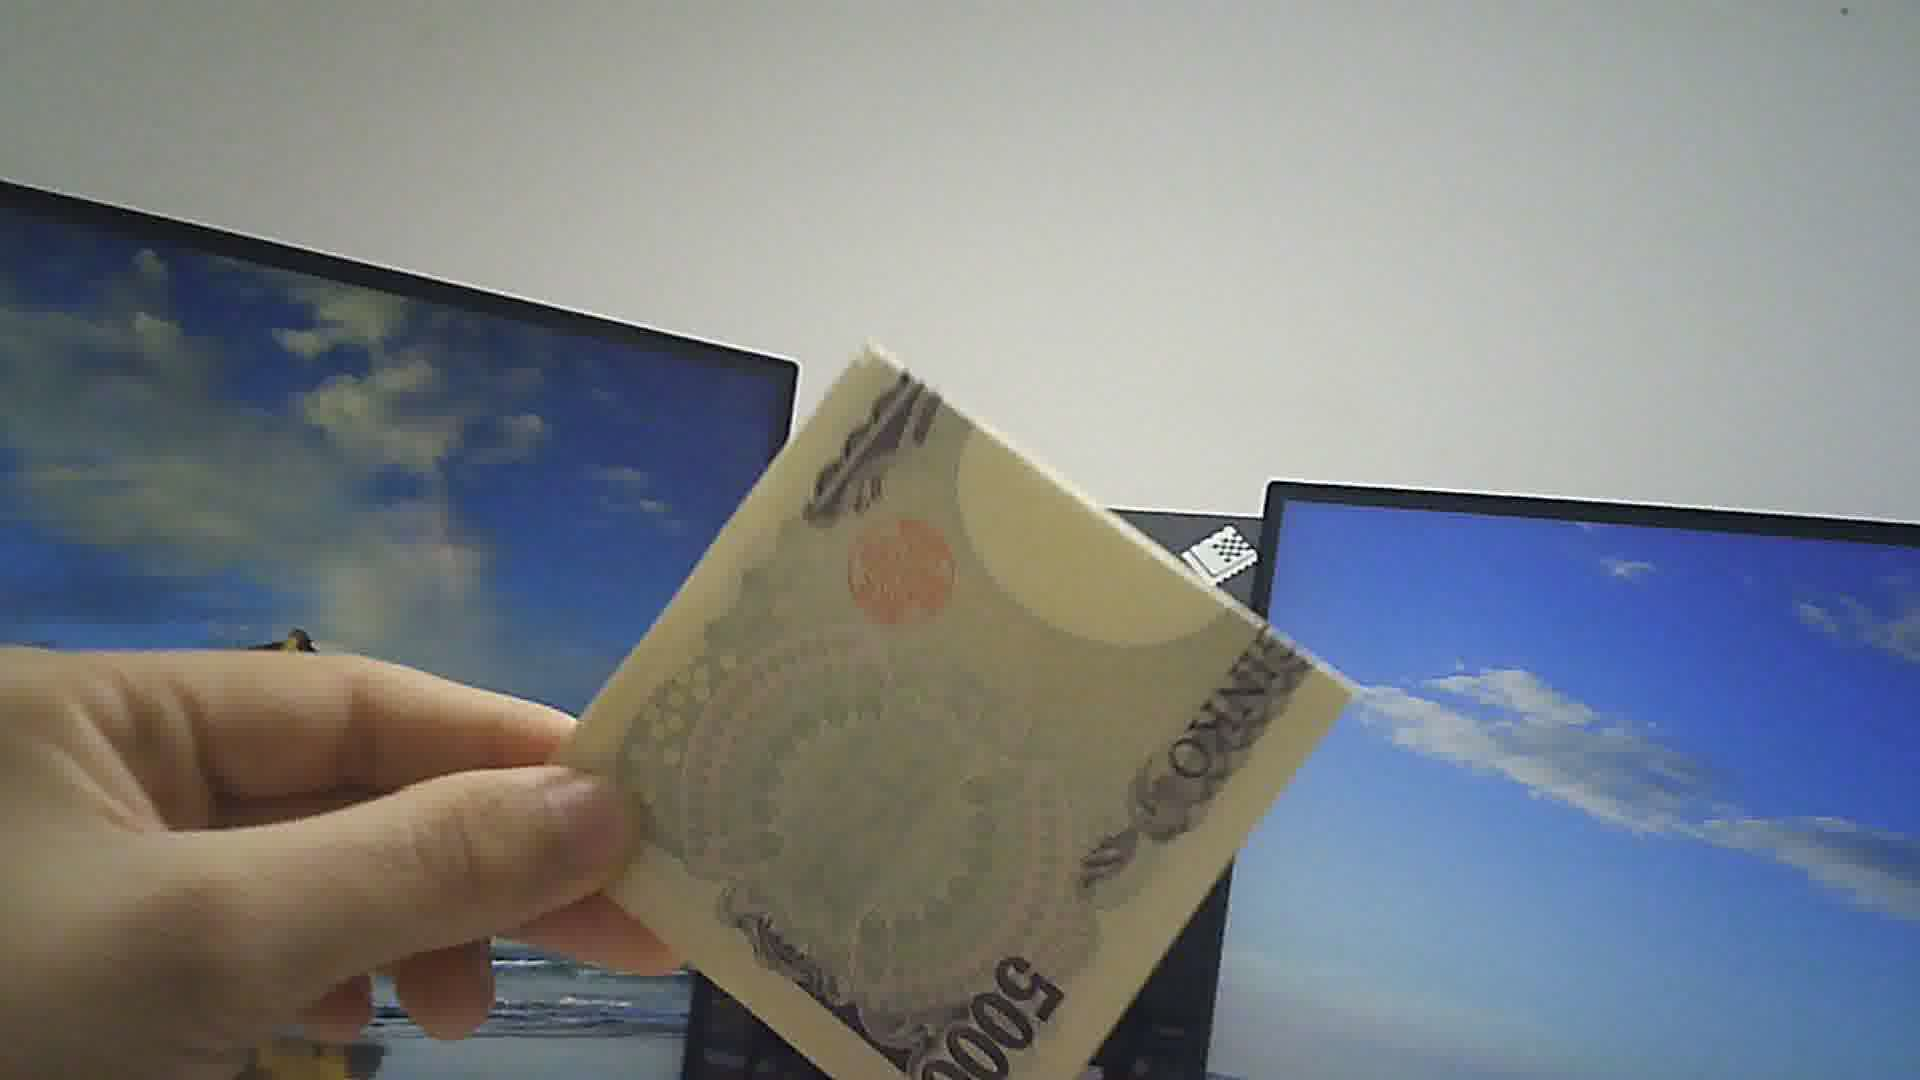5,000 Yen: (547, 349, 1336, 1079)
